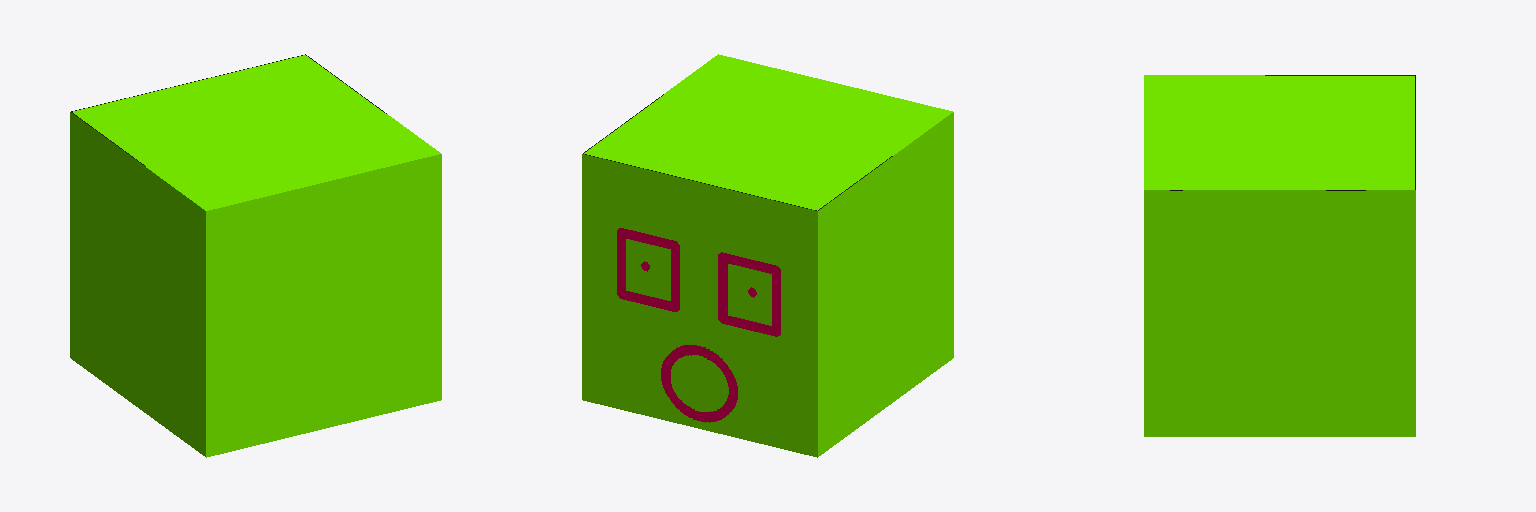
3 renders of one model, left to right at view 1: azimuth 30°, elevation 25°; view 2: azimuth 150°, elevation 25°; view 3: azimuth 270°, elevation 25°, orthographic.
Visible parts, largest first — view 1: Cube; view 2: Cube; view 3: Cube.
Part boxes in pixels (x1,y1,x2,y2): Cube: (70, 54, 441, 457); Cube: (582, 54, 953, 457); Cube: (1144, 75, 1415, 436).
Bounding box in the file's own units: 2 × 2 × 2.
Materials: 1 (1 with a texture image).